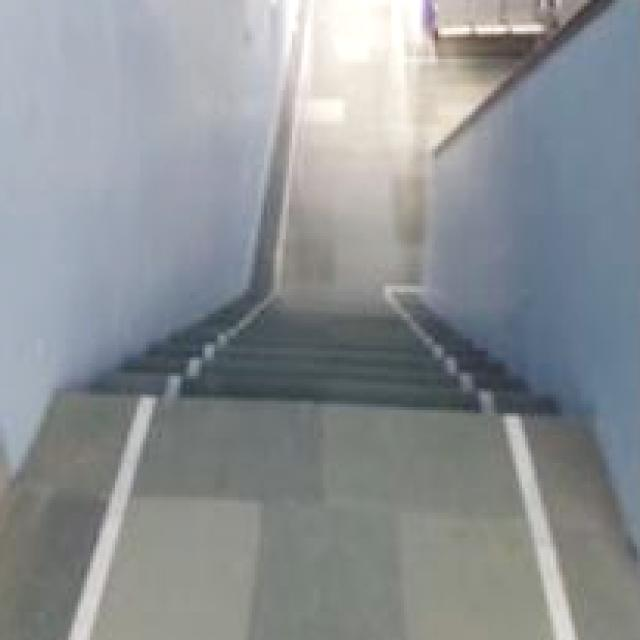downstair: (42, 256, 595, 461)
